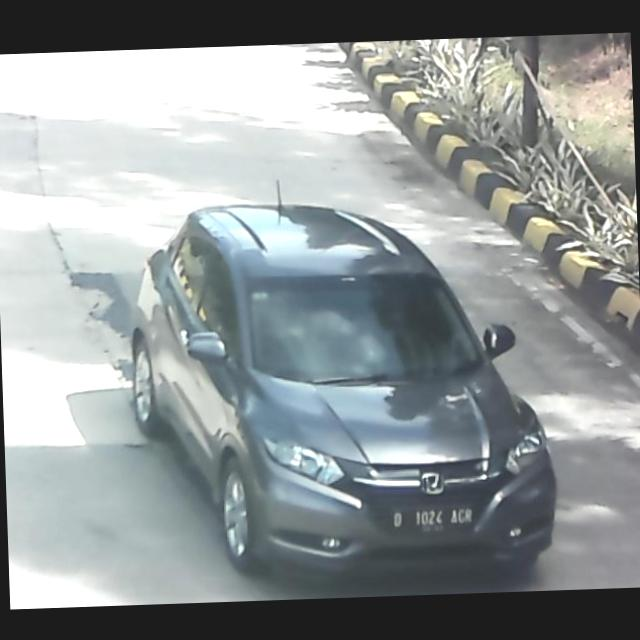plate: (382, 502, 478, 535)
